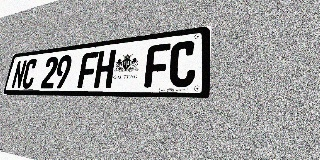2: (40, 56, 59, 88)
9: (53, 54, 73, 88)
C: (168, 40, 197, 87), (21, 59, 38, 89)
F: (144, 43, 171, 88), (77, 52, 99, 88)
H: (93, 49, 116, 88)
N: (11, 60, 27, 89)
